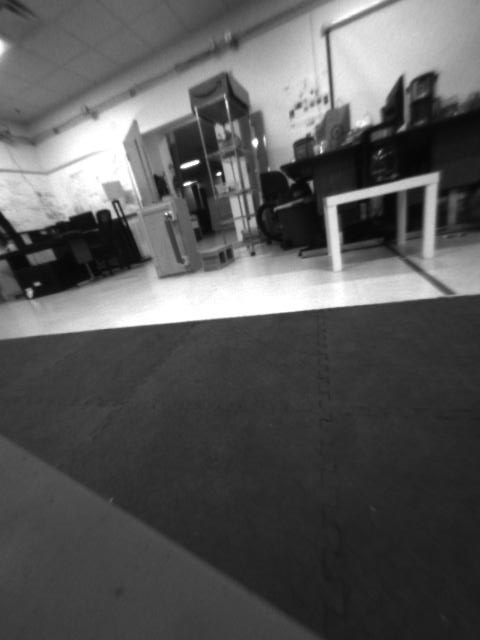coffee_pot: (363, 120, 400, 187)
